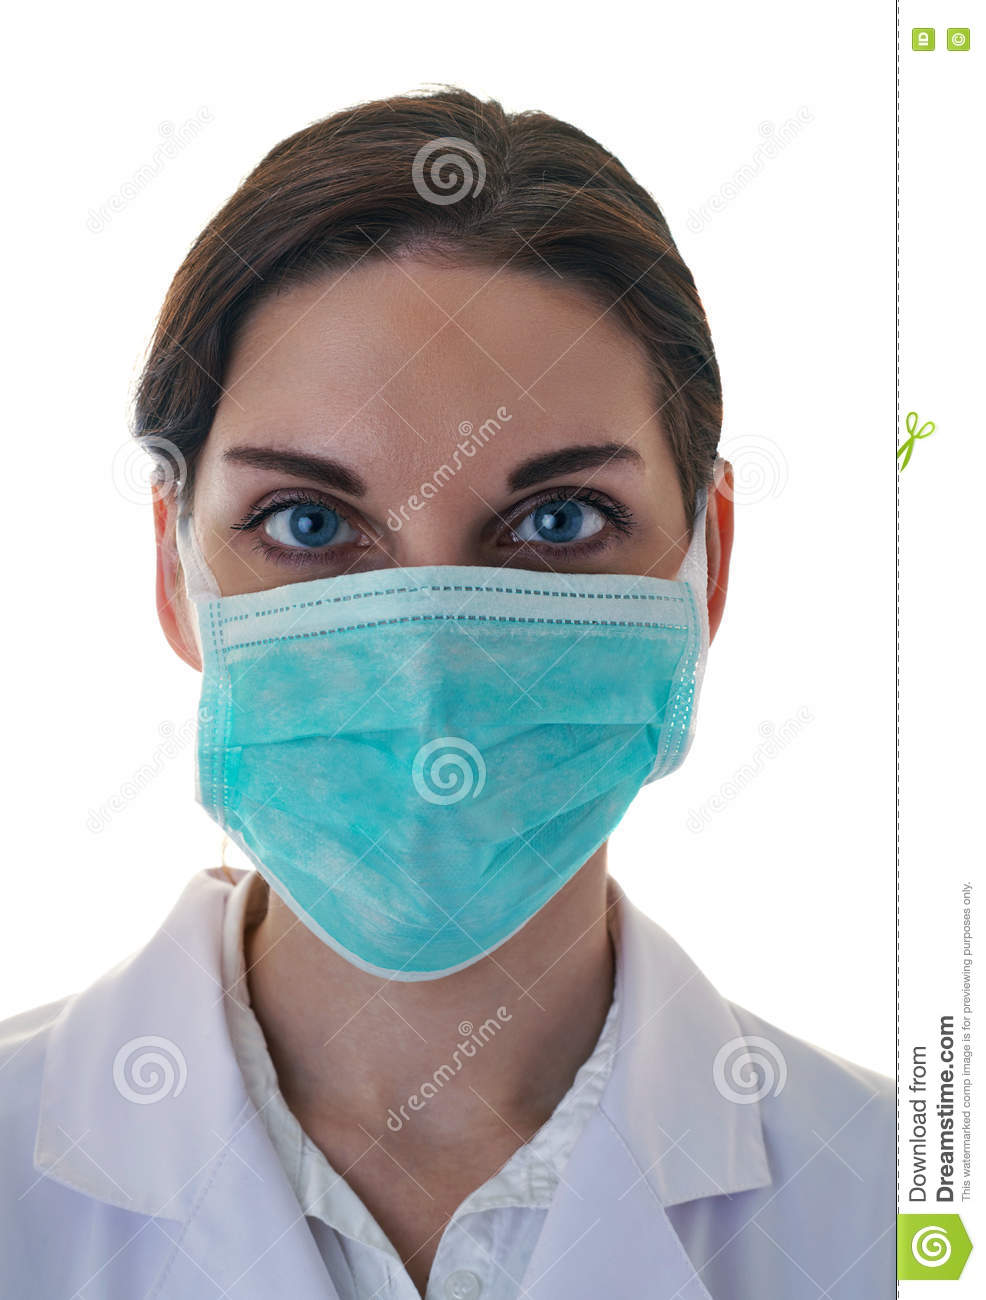mask: (195, 570, 700, 984)
